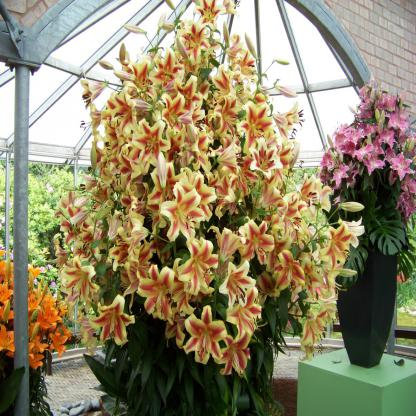vase: (336, 230, 396, 366)
